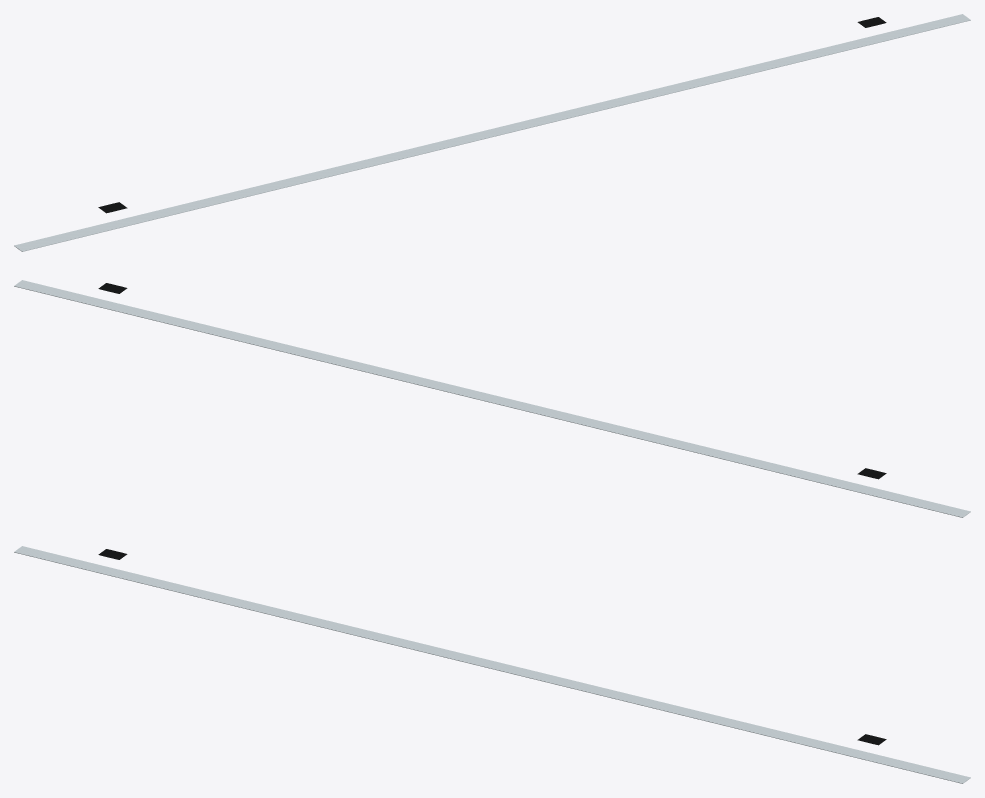
File: chairlift-cable-lod.glb
3 views of the same model, one above another, from view 1: azimuth 30°, elevation 25°; view 2: azimuth 150°, elevation 25°; view 3: azimuth 330°, elevation 25° (orthographic).
Parts seen in each view (by area): view 1: chairlift-cable-cable-span-12m_0; view 2: chairlift-cable-cable-span-12m_0; view 3: chairlift-cable-cable-span-12m_0.
Boxes of the visible parts, left/top/right/bottom form: chairlift-cable-cable-span-12m_0: left=14, top=14, right=970, bottom=251; chairlift-cable-cable-span-12m_0: left=14, top=280, right=970, bottom=517; chairlift-cable-cable-span-12m_0: left=14, top=546, right=970, bottom=783.
Bounding box in the file's own units: 12 × 0.22 × 0.18.
Materials: 2 (2 with a texture image).
